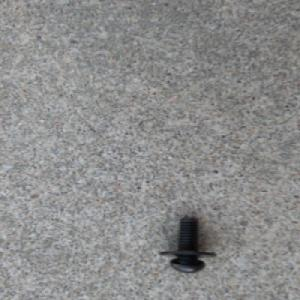BoltWasher: (157, 215, 218, 273)
